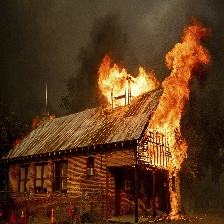fire: (153, 19, 212, 222), (98, 54, 161, 108)
smoke: (55, 14, 100, 108)
